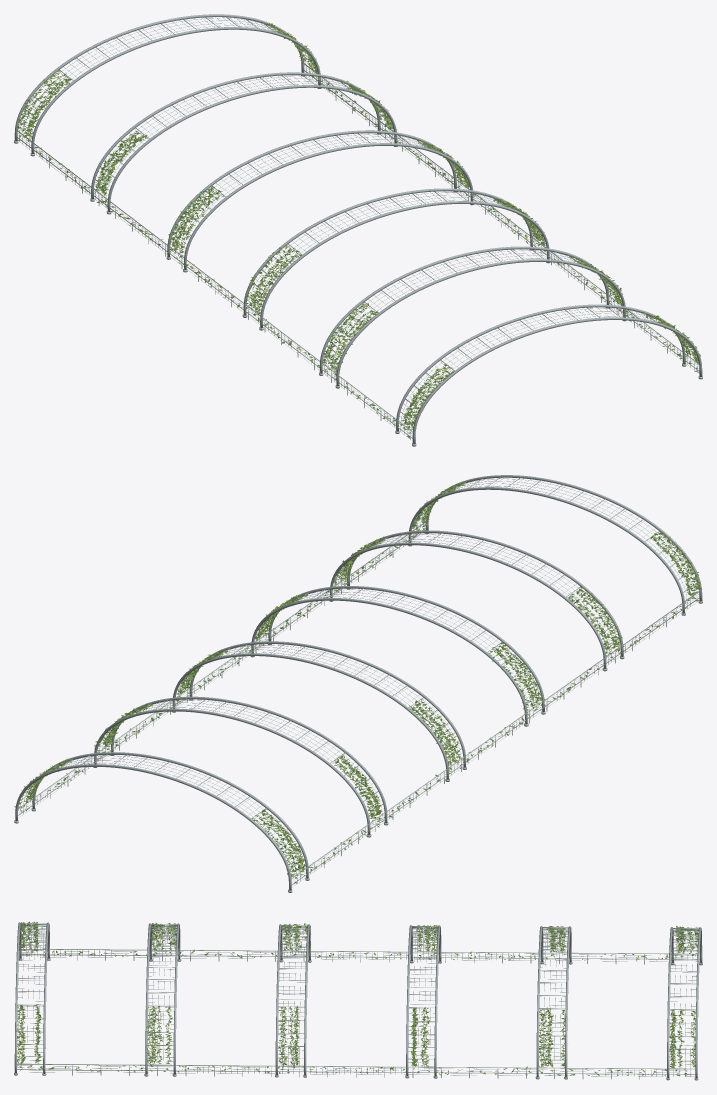
File: d11-miyashita-trellis.glb
3 renders of one model, top to bottom at view 1: azimuth 30°, elevation 25°; view 2: azimuth 150°, elevation 25°; view 3: azimuth 270°, elevation 25°, orthographic. The views are drawn at different scales.
Parts seen in each view (by area): view 1: structural_grey; view 2: structural_grey; view 3: structural_grey.
Boxes of the visible parts, <box> form: structural_grey: <box>14,14,702,446</box>; structural_grey: <box>14,475,702,892</box>; structural_grey: <box>14,921,702,1080</box>.
Size of the model in its own units: 25.57 by 7.11 by 60.74.
1 material, 1 textured.
